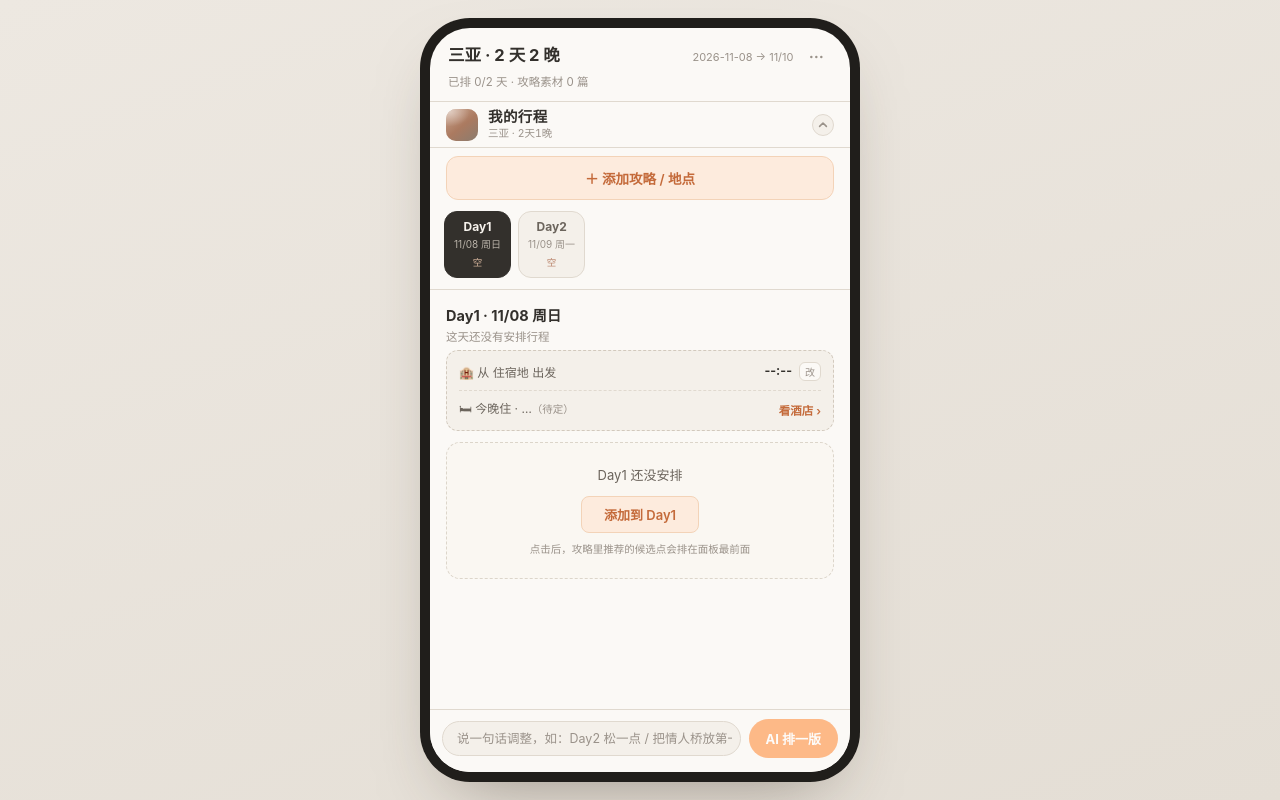
Scenario: TripView 浮层互斥（Task #109） › 近期操作打开时点遮罩可关闭
Click the button named "更多操作". click: (817, 58)
box: [802, 48, 832, 67]
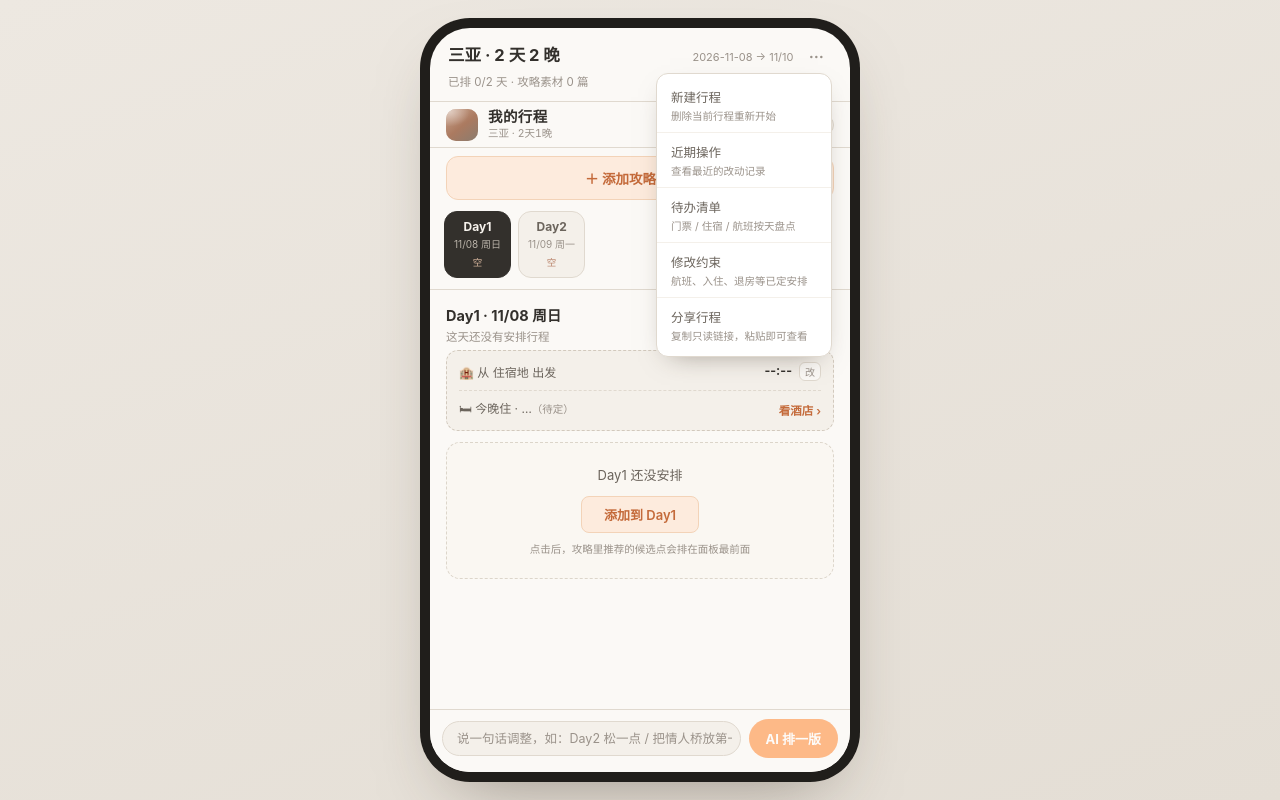
Click the menu item "近期操作 查看最近的改动记录". click: (744, 160)
box: [657, 132, 831, 187]
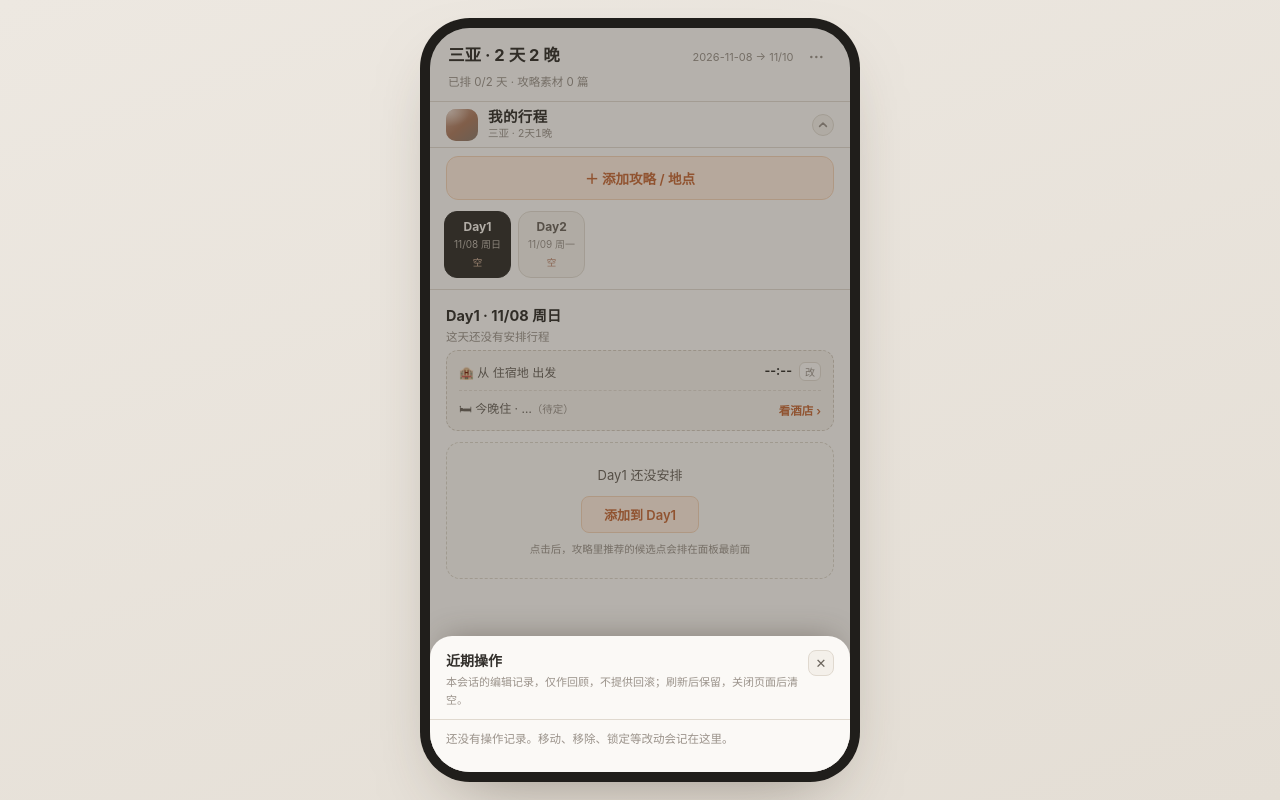
Check: the dialog "近期操作" is shown, box [430, 636, 850, 772]
Click the element with class "backdrop". click: (640, 400)
box: [430, 28, 850, 772]
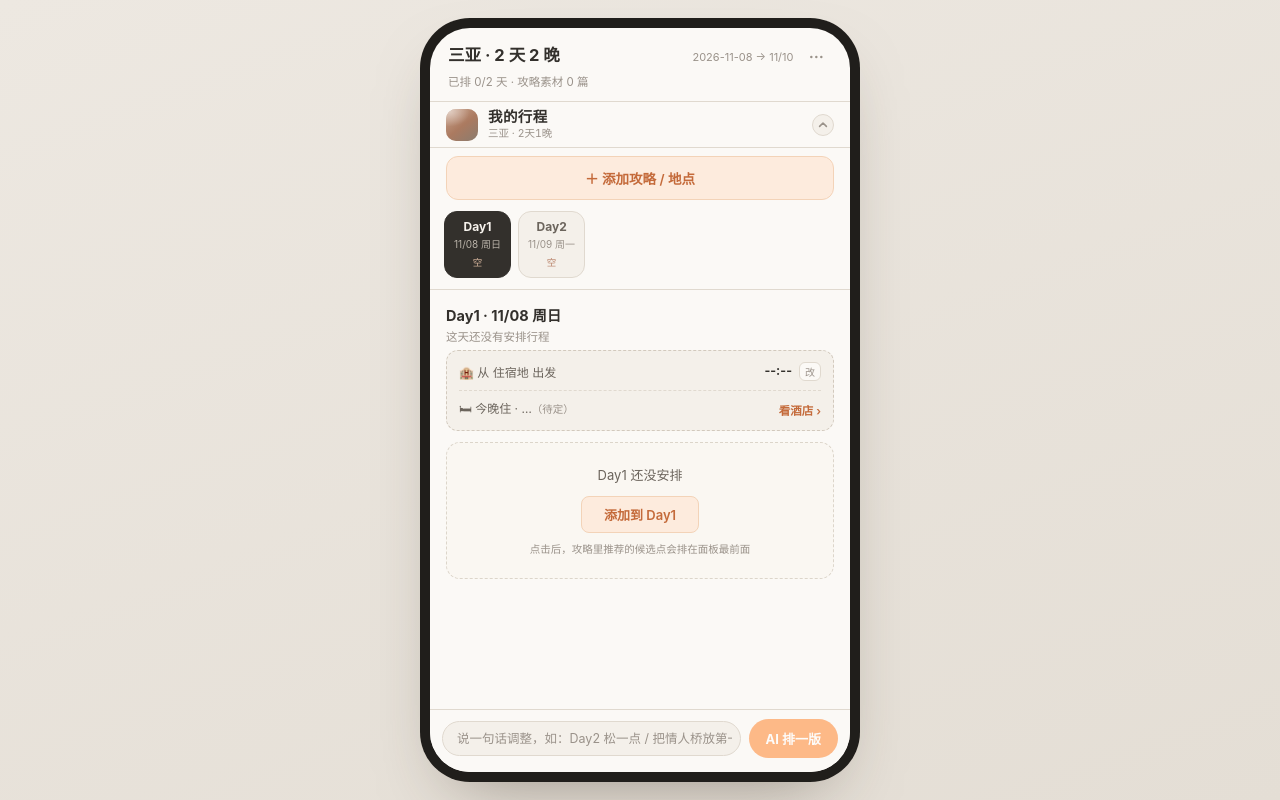
Check: the text "近期操作" is gone
